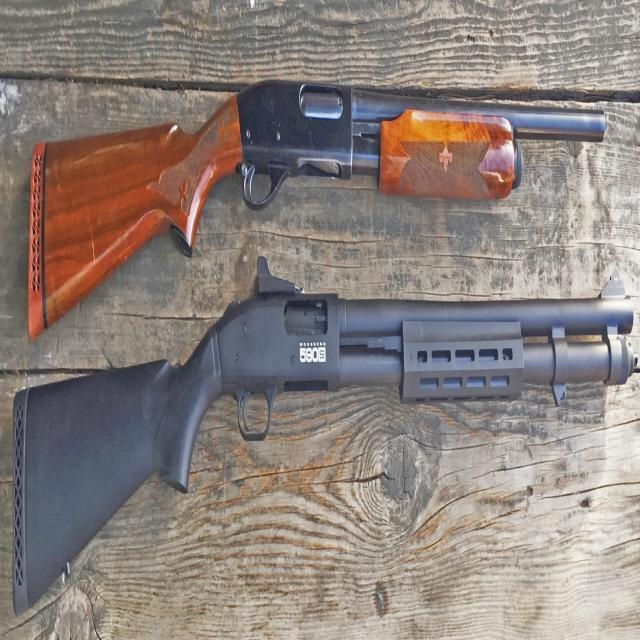shotgun: (8, 280, 635, 626), (22, 33, 618, 268)
